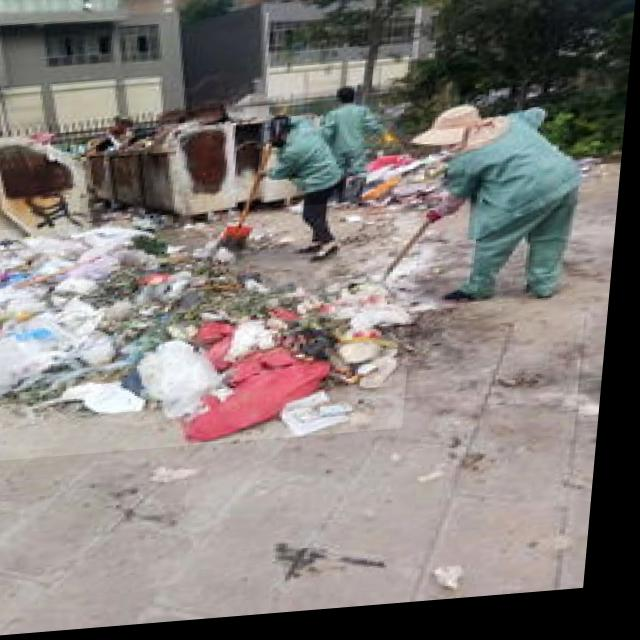garbage: (0, 204, 427, 464)
